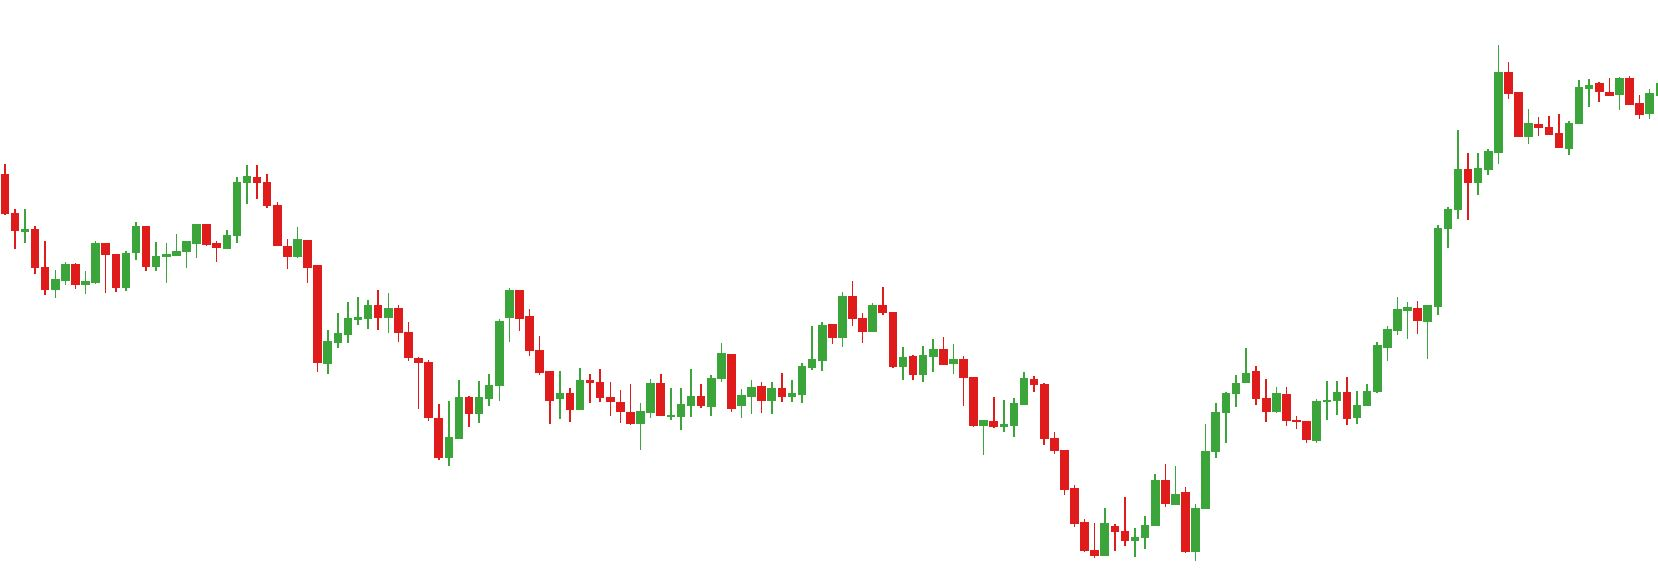buy: (563, 383, 645, 455), (1129, 495, 1204, 562)
sell: (372, 286, 526, 378)
